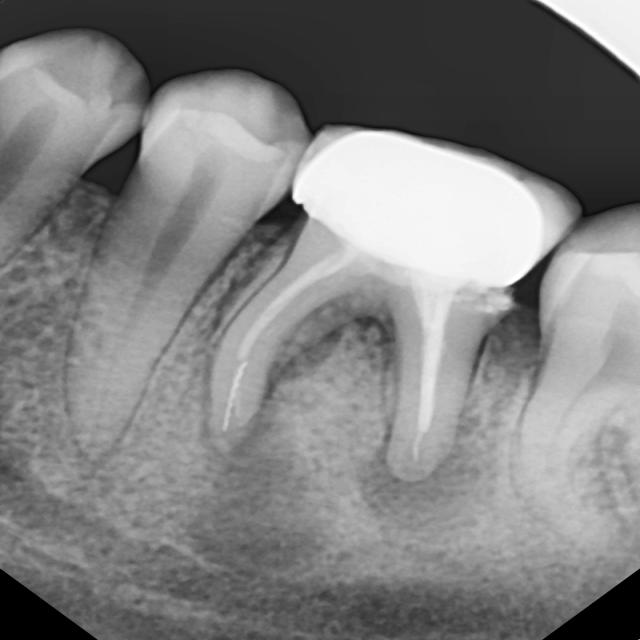Crown: (294, 113, 578, 294)
Normal: (49, 57, 331, 495), (0, 12, 164, 293)
RCT: (193, 228, 475, 465)
